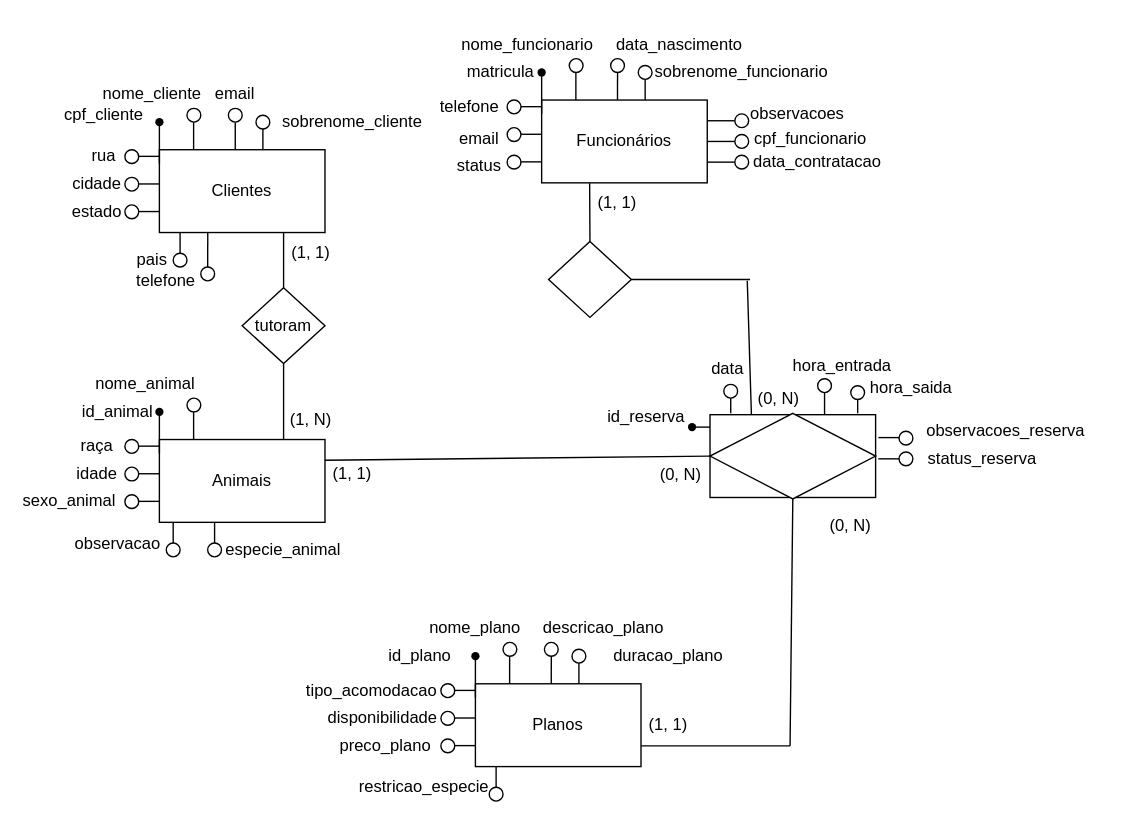
Some shapes in this 1126 by 831 pixel diagram are drawn without their labels. Each missing label, with the box of its shape:
fazem: (547, 240, 631, 317)
Reservas: (709, 412, 876, 499)
